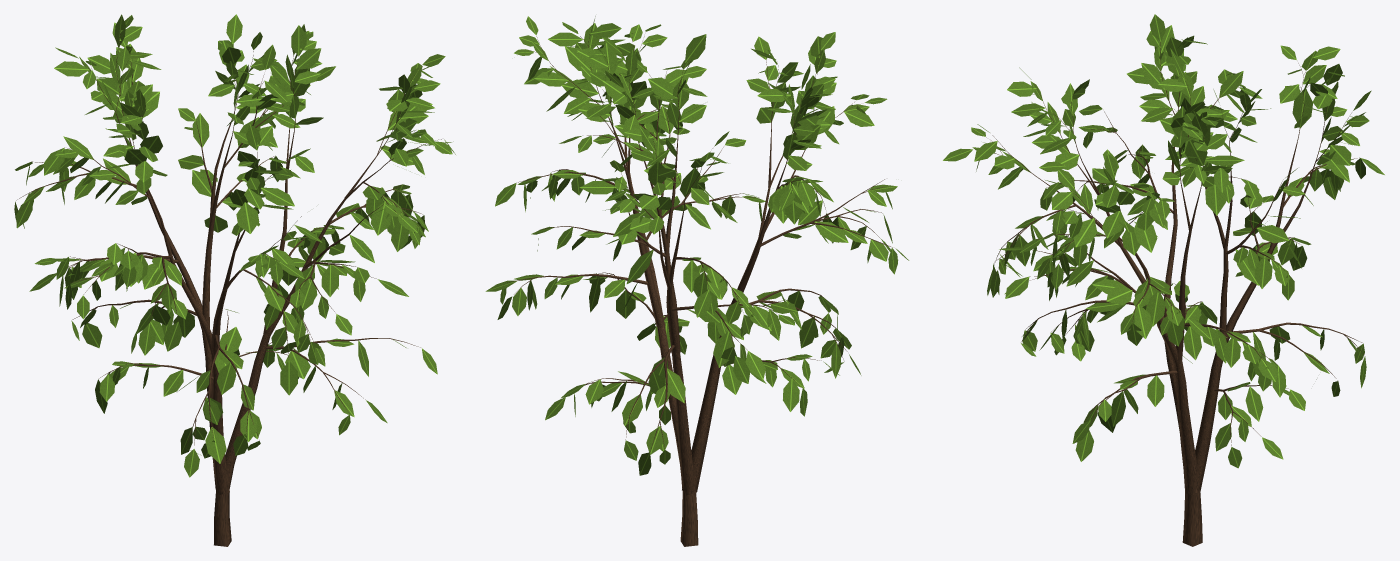
Rendered from abedul.glb.
3 renders of one model, left to right at view 1: azimuth 30°, elevation 25°; view 2: azimuth 150°, elevation 25°; view 3: azimuth 270°, elevation 25°, orthographic. The views are drawn at different scales.
Parts seen in each view (by area): view 1: leaves, tree; view 2: leaves, tree; view 3: leaves, tree.
Part boxes in pixels (<box>): leaves: <box>14,14,455,477</box>; tree: <box>16,34,441,546</box>; leaves: <box>485,16,909,475</box>; tree: <box>505,33,892,546</box>; leaves: <box>943,14,1384,468</box>; tree: <box>975,42,1364,546</box>.
Bounding box in the file's own units: 0.7838 × 1 × 0.8159.
Materials: 2 (2 with a texture image).
